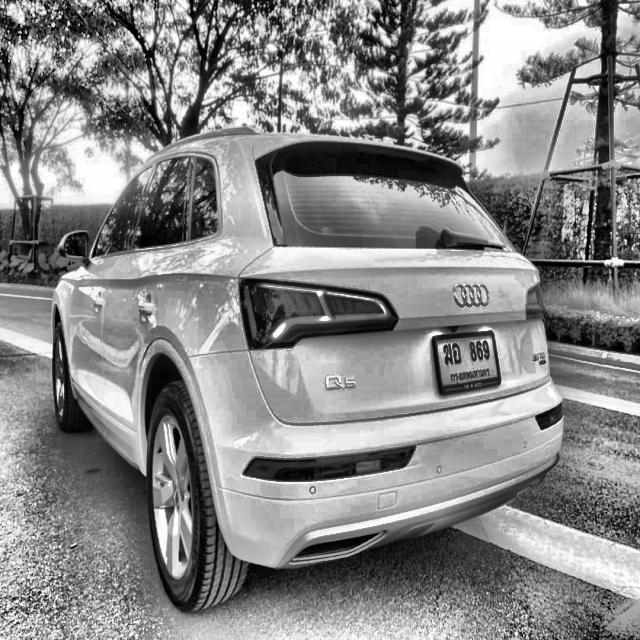license-plate: (431, 329, 504, 395)
